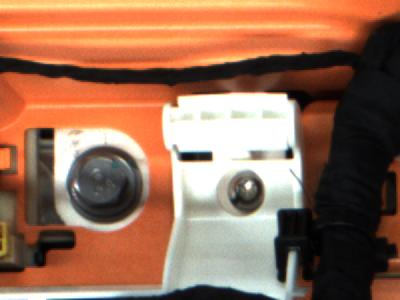nut_b: (62, 144, 148, 223)
